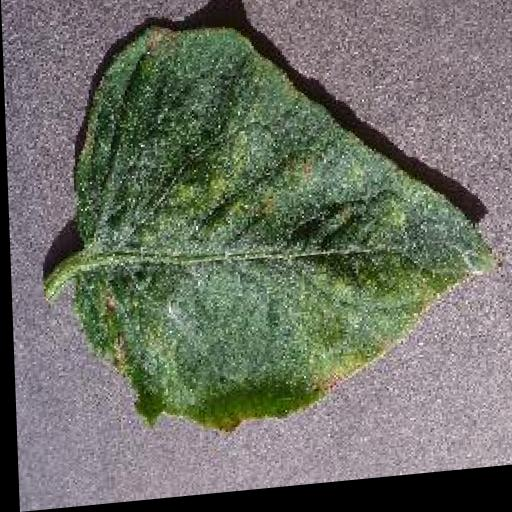Spider Mites: (68, 0, 499, 450)
